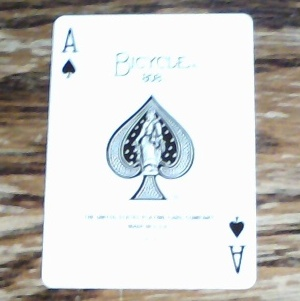card: (42, 11, 257, 290)
